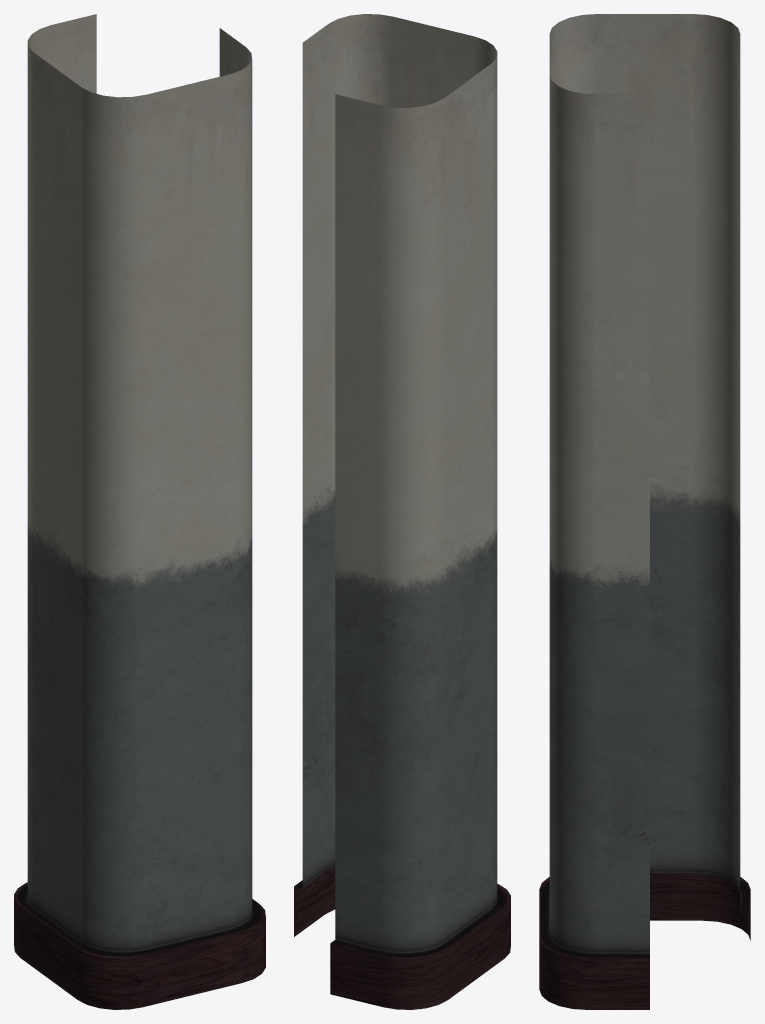
Rendered from Wall 4 Corner Pillar.fbx.
3 views of the same model, side by side, from view 1: azimuth 30°, elevation 25°; view 2: azimuth 150°, elevation 25°; view 3: azimuth 270°, elevation 25° (orthographic).
Parts seen in each view (by area): view 1: Wall_4_Corner_Pillar; view 2: Wall_4_Corner_Pillar; view 3: Wall_4_Corner_Pillar.
Boxes of the visible parts, box(x1,y1,x2,y2) form: Wall_4_Corner_Pillar: box(14, 14, 265, 1009); Wall_4_Corner_Pillar: box(294, 14, 510, 1009); Wall_4_Corner_Pillar: box(539, 14, 750, 1009).
Bounding box in the file's own units: 63 × 300 × 63.
